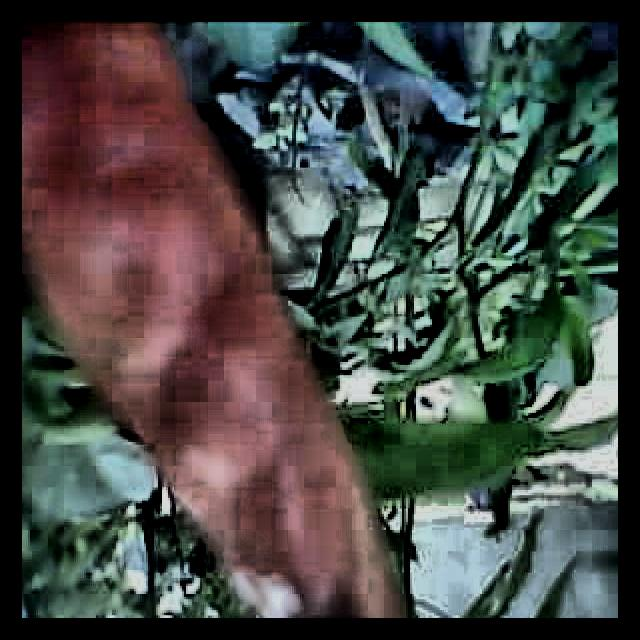Cabai: (22, 31, 400, 618)
